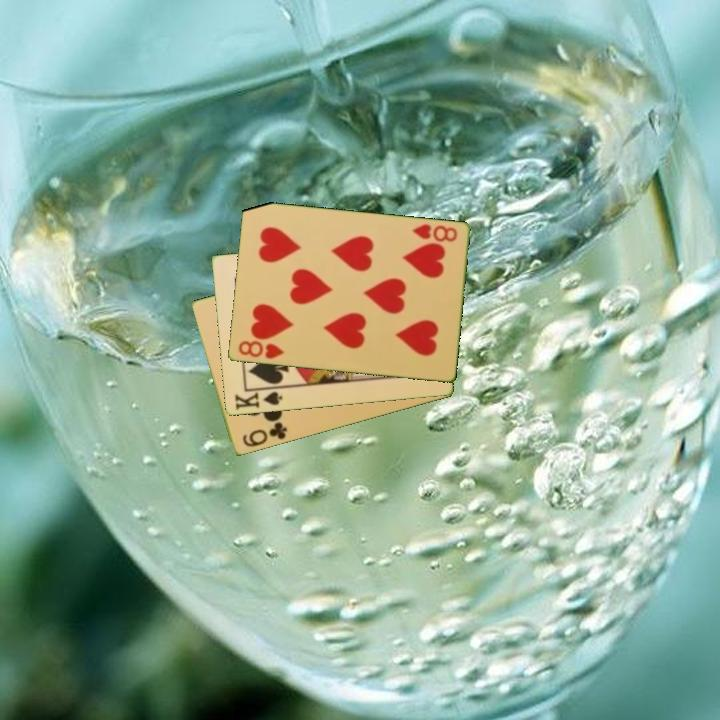6c: (239, 419, 290, 450)
8h: (235, 337, 287, 362), (408, 220, 460, 245)
Ks: (231, 385, 286, 413)
